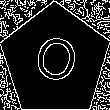O_S: (28, 30, 83, 91)
